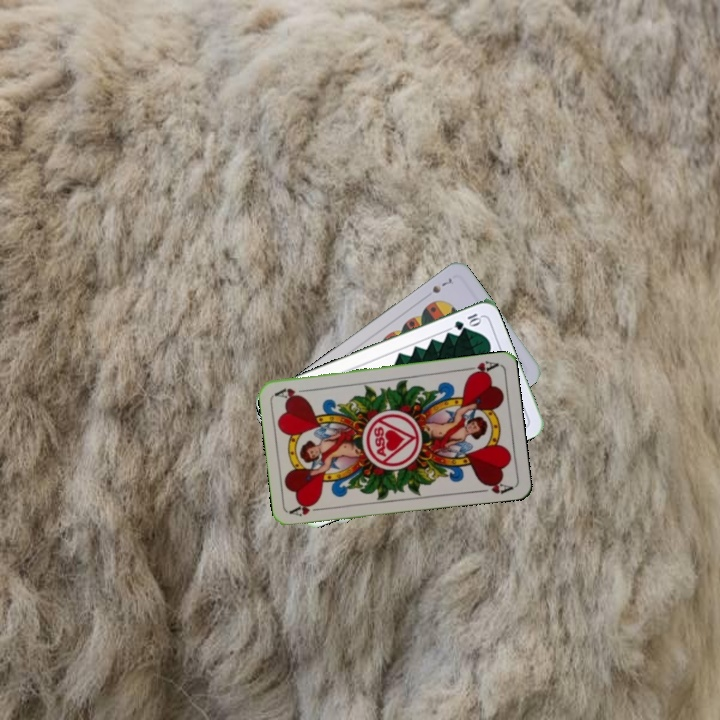G10: (450, 309, 484, 333)
HA: (460, 357, 500, 379), (287, 499, 328, 519)
S7: (428, 274, 454, 296)
